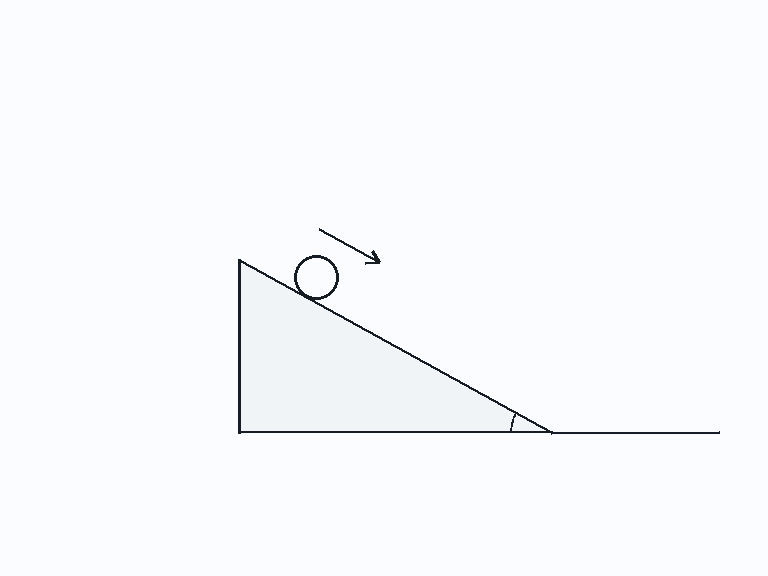ball: (292, 253, 340, 301)
ramp: (239, 258, 553, 434)
